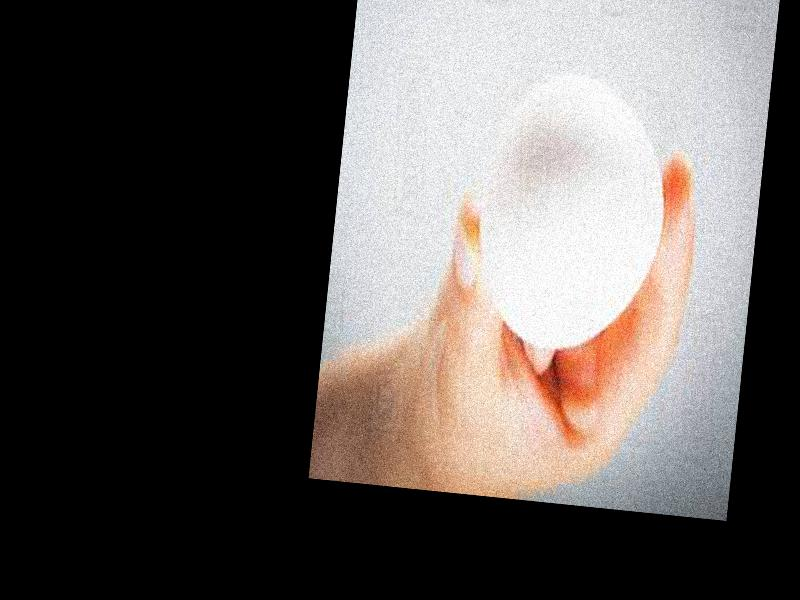Eggs: (471, 67, 676, 356)
